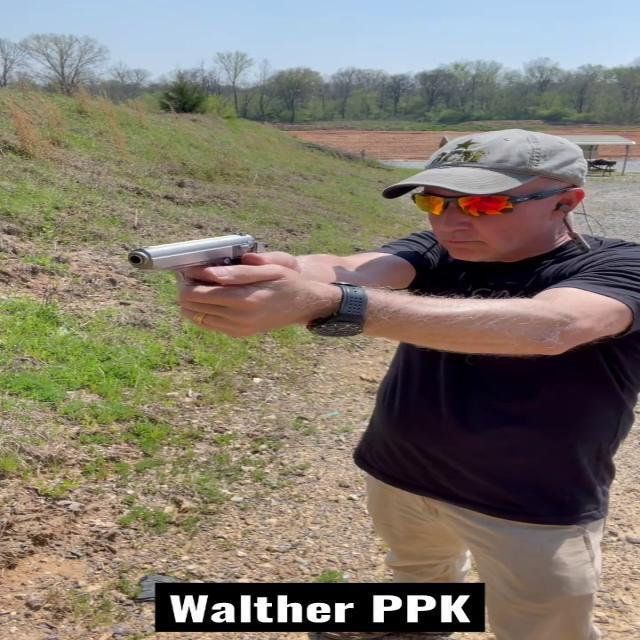Handgun: (120, 231, 278, 324)
